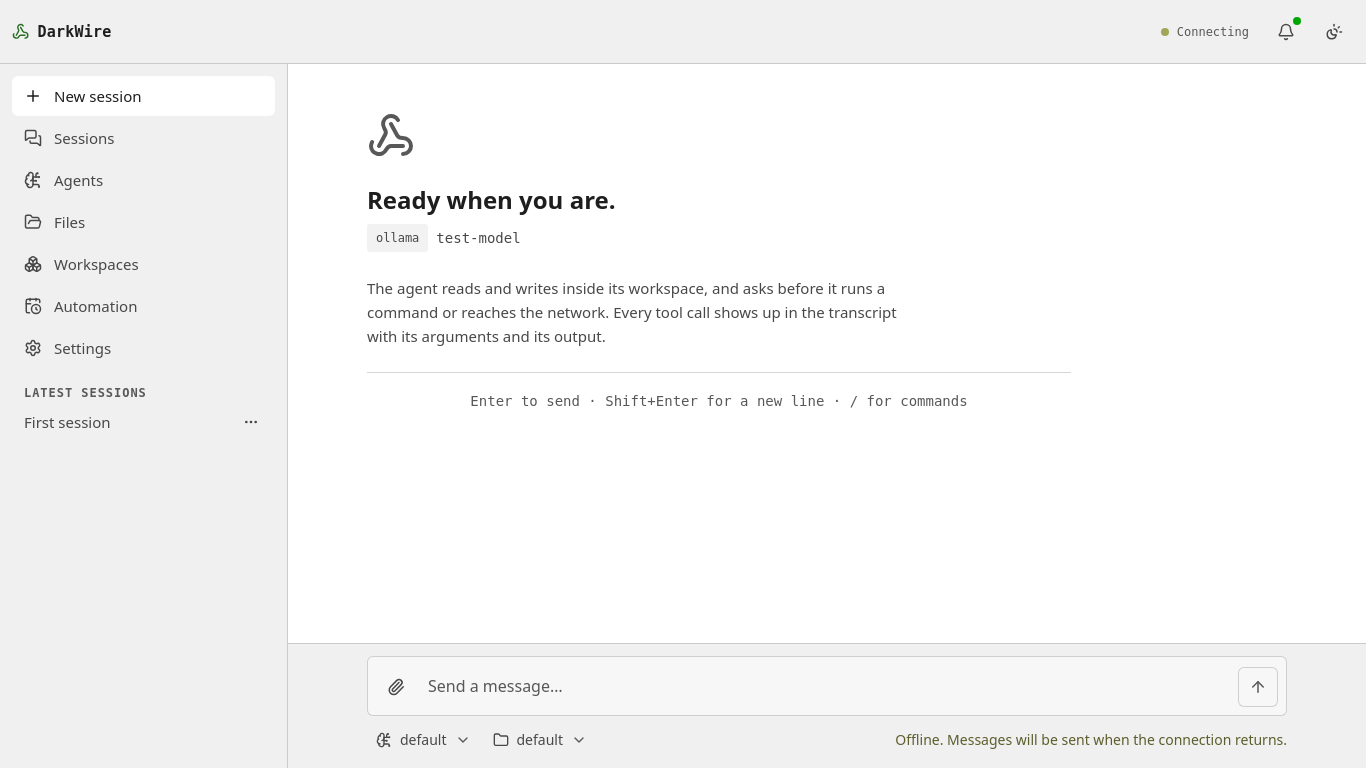
the shell › keeps the page when the server could not reload, and says why
Click the button "Connecting" at coordinates (1205, 32), box top-left (1152, 16), bottom-right (1258, 48)
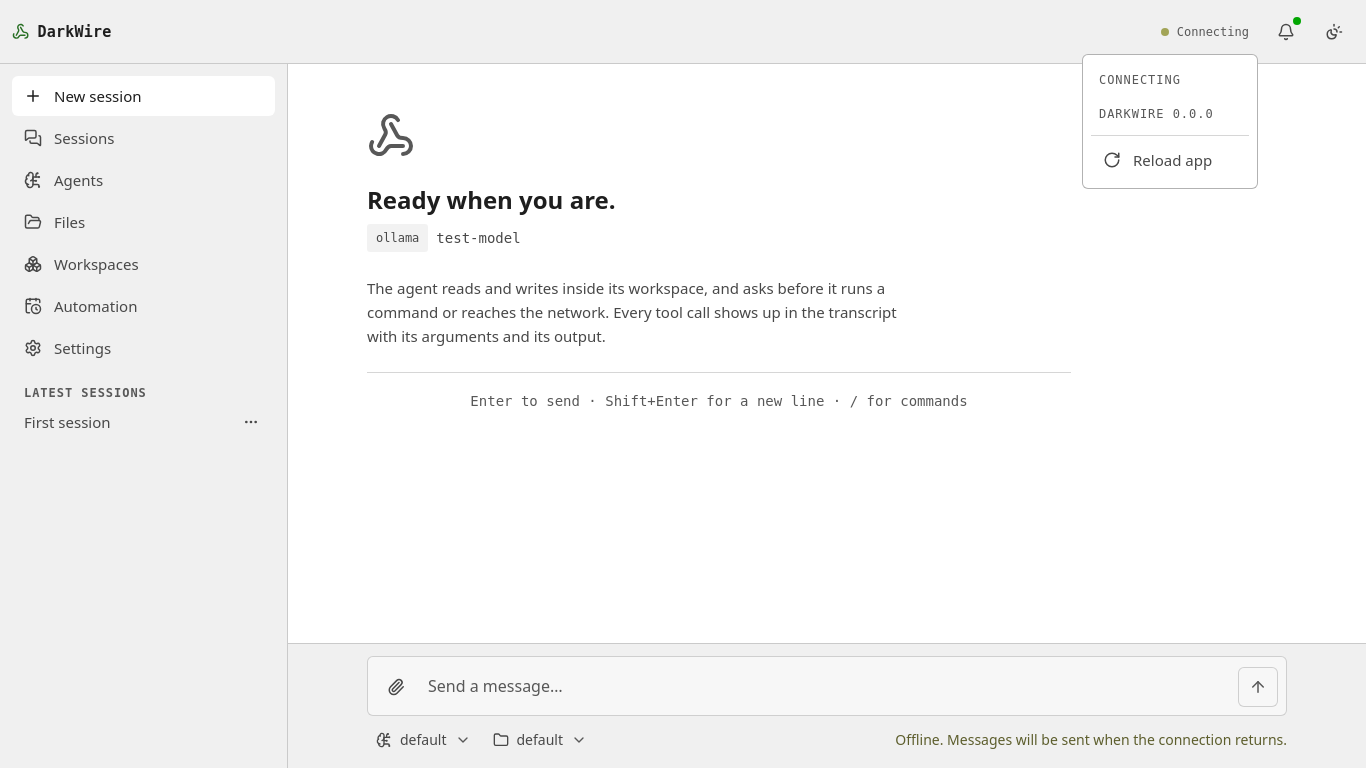
Click the menu item "Reload app" at coordinates (1158, 160), box top-left (1103, 150), bottom-right (1212, 170)
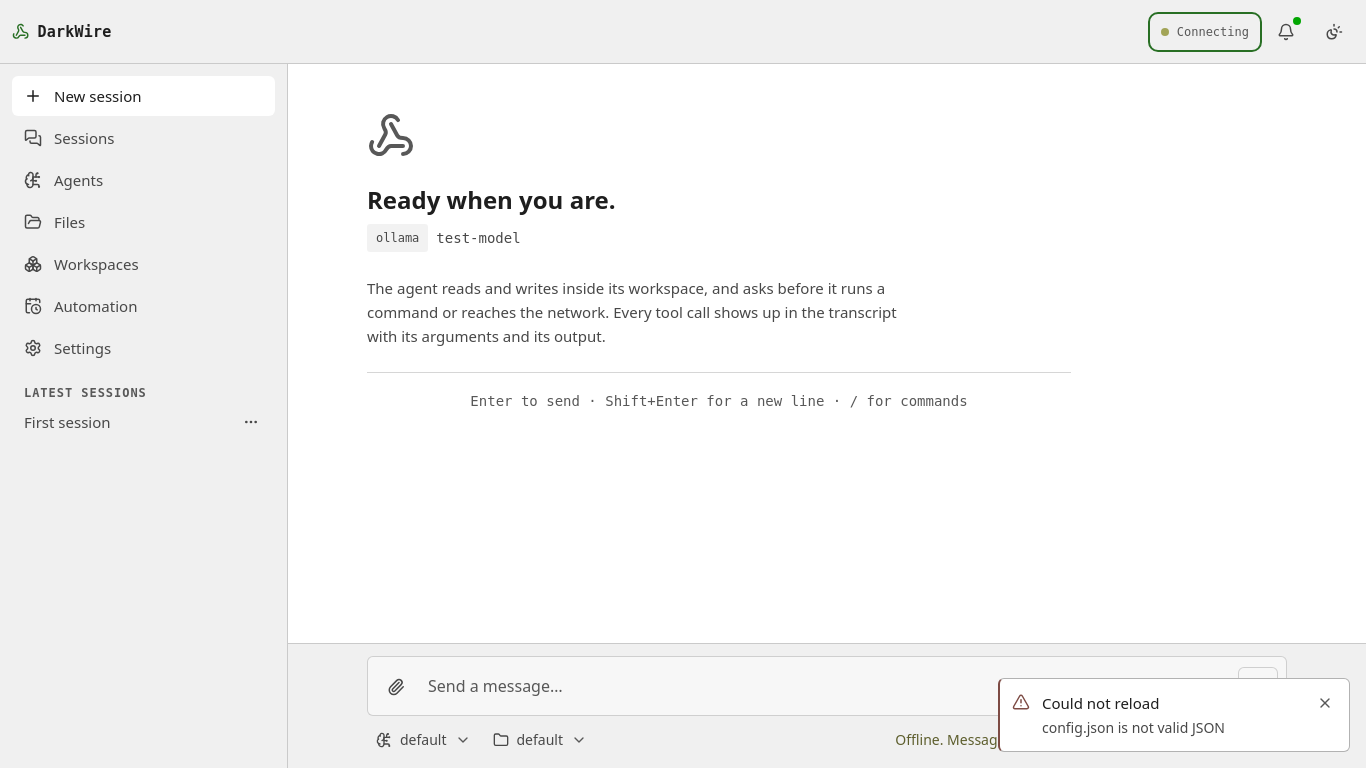
Expected: the text "config.json is not valid JSON" is shown, top-left (1042, 718), bottom-right (1225, 737)
